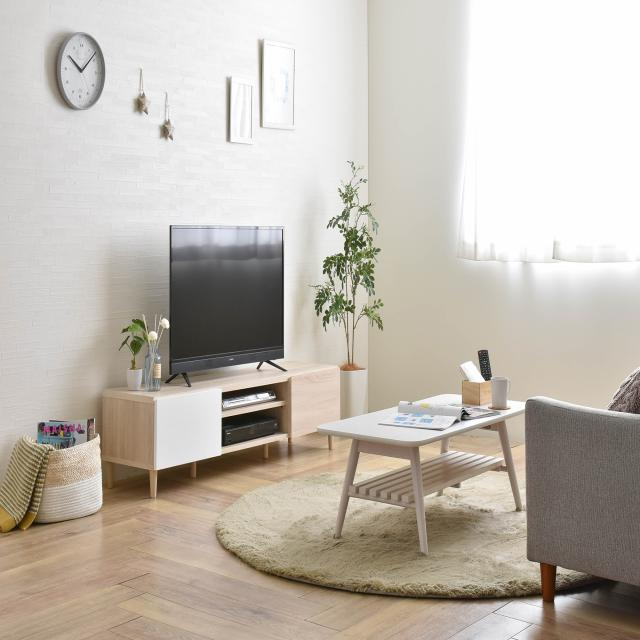modern desk: (311, 388, 521, 550)
modern shelf: (95, 356, 342, 465)
